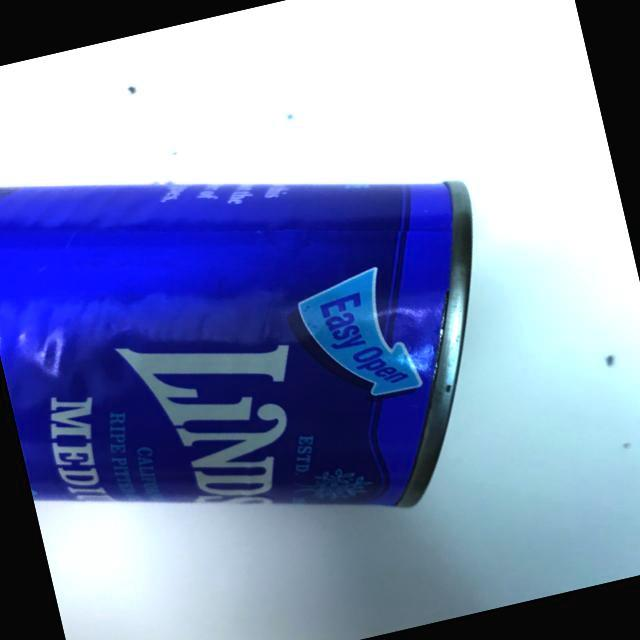metal: (0, 37, 608, 605)
